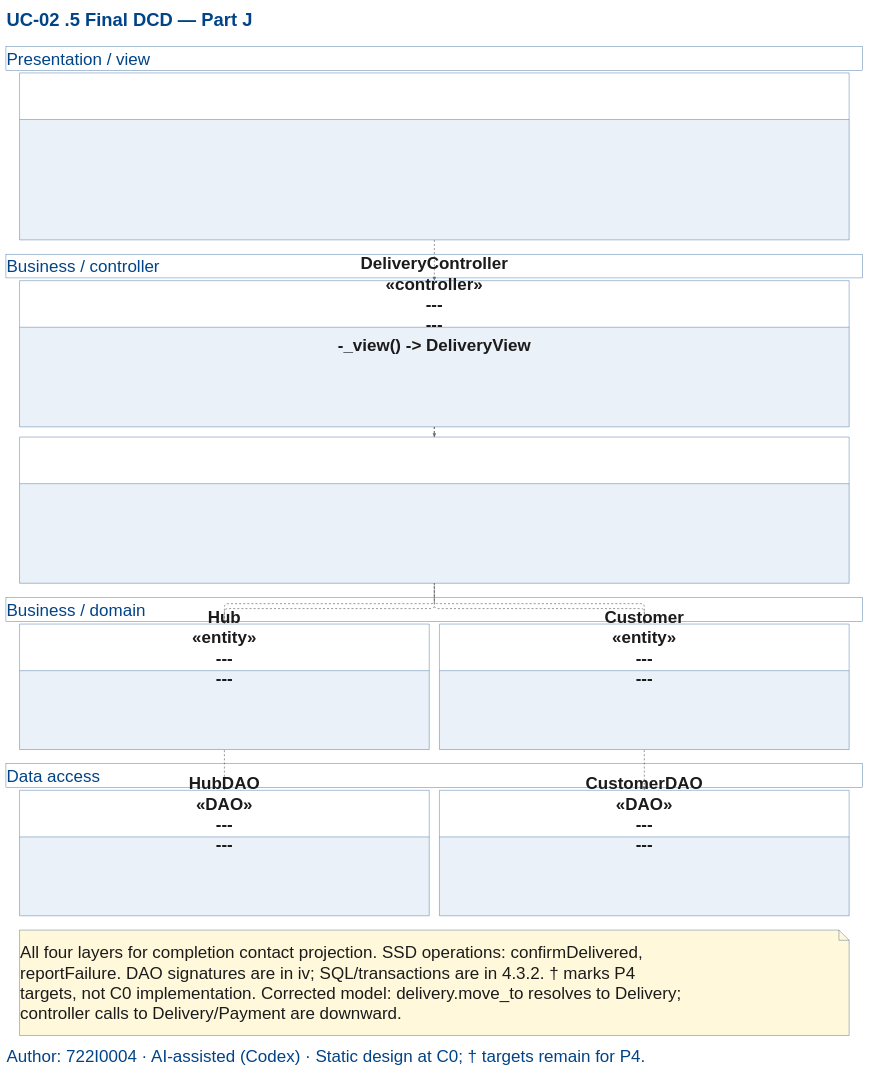
Some shapes in this 869 by 1072 pixel diagram are drawn without their labels. The shapes that lost their labels are listed below. From the top down, each one's centre as x and y in pixels, then its label:
point 434,156: delivery «view» --- --- +delivered() * +failed() *
point 434,510: DeliveryView «value» --- --- +cash_to_collect: int
